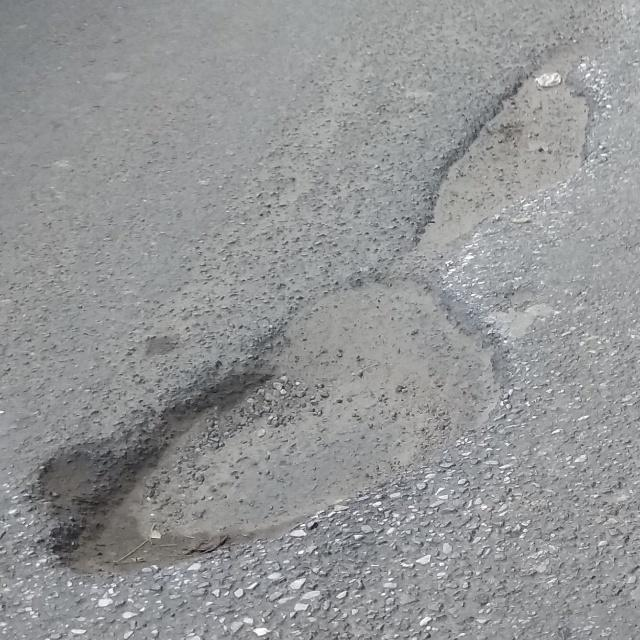Pothole: (113, 312, 397, 521), (423, 84, 583, 230)
